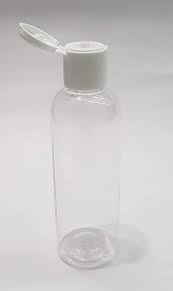available: (14, 18, 135, 273)
